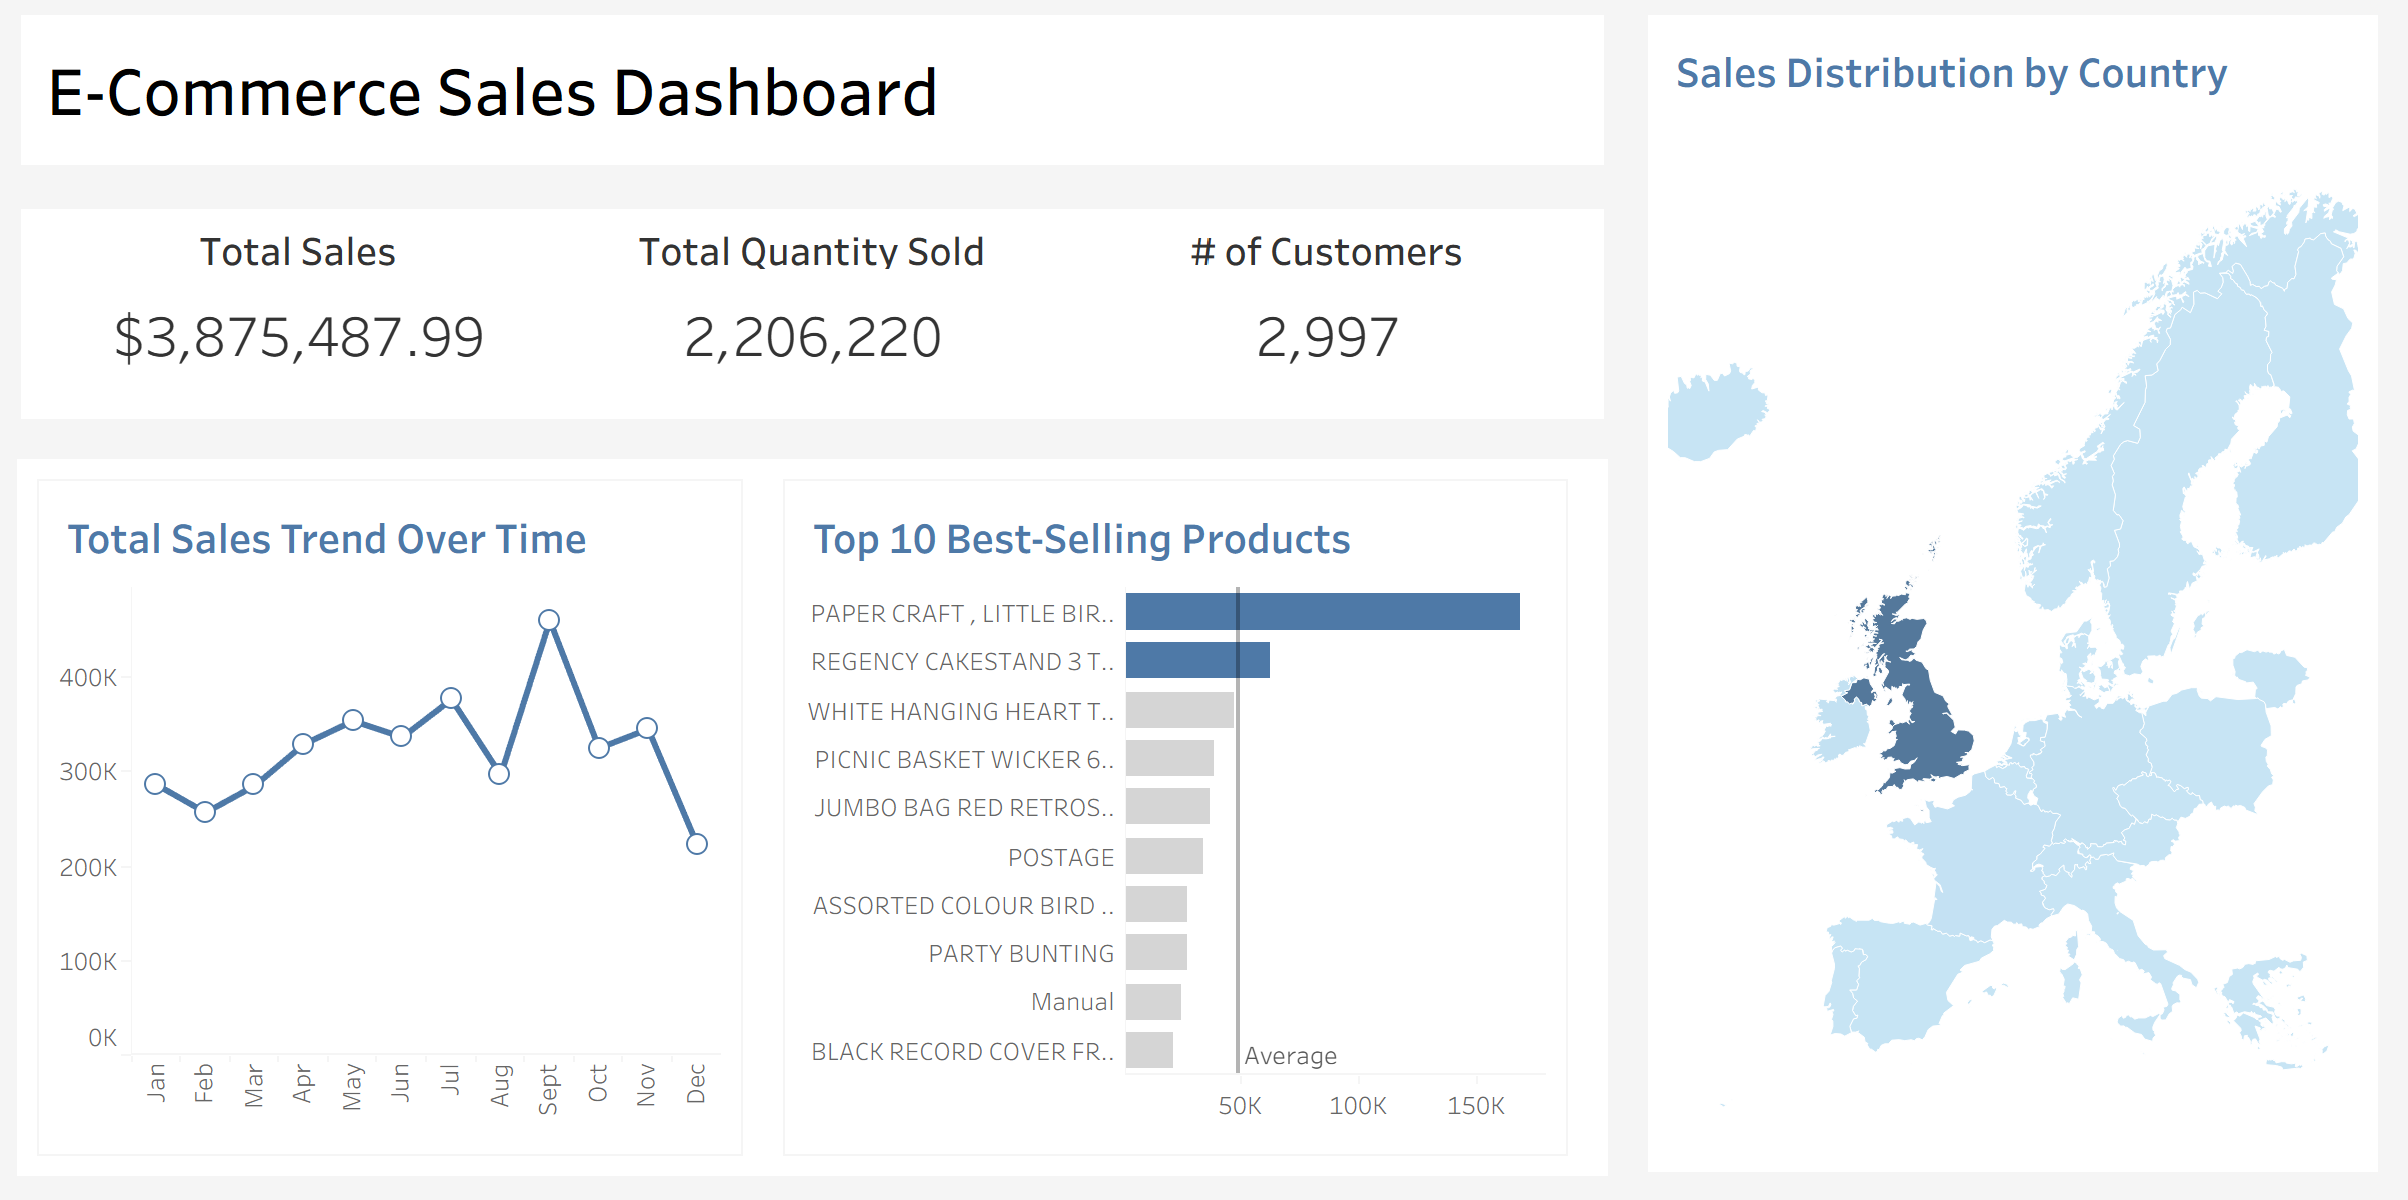

The page's visual inventory and layout, read from the dashboard file:
{"tool":"tableau","page":{"name":"Sales Dashboard","canvas":[1200,600],"ordinal":0},"visuals":[{"type":"text","box":[0,0,813,97]},{"type":"worksheet","title":"Sales by Country","mark":"Automatic","box":[813,0,387,600]},{"type":"worksheet","title":"KPIs","mark":"Automatic","box":[0,97,813,127]},{"type":"worksheet","title":"Sales Over Time","mark":"Line","rows":["Calculation_2507379160515477504","Calculation_2507379160515477504"],"cols":["InvoiceDate"],"box":[9,233,373,358]},{"type":"worksheet","title":"Top 10 Best-Selling Products","mark":"Automatic","rows":["Description"],"cols":["Sales"],"box":[382,233,412,358]}]}

Visuals, with their boxes in screenshot pixels (x1, y1, x2, y2), scaled from the page's 1200x600 canvas onto the 2408x1200 screenshot:
text: box=[0, 0, 1631, 194]
"Sales by Country" worksheet: box=[1631, 0, 2407, 1199]
"KPIs" worksheet: box=[0, 194, 1631, 448]
"Sales Over Time" worksheet (Line marks): box=[18, 466, 767, 1182]
"Top 10 Best-Selling Products" worksheet: box=[767, 466, 1593, 1182]
